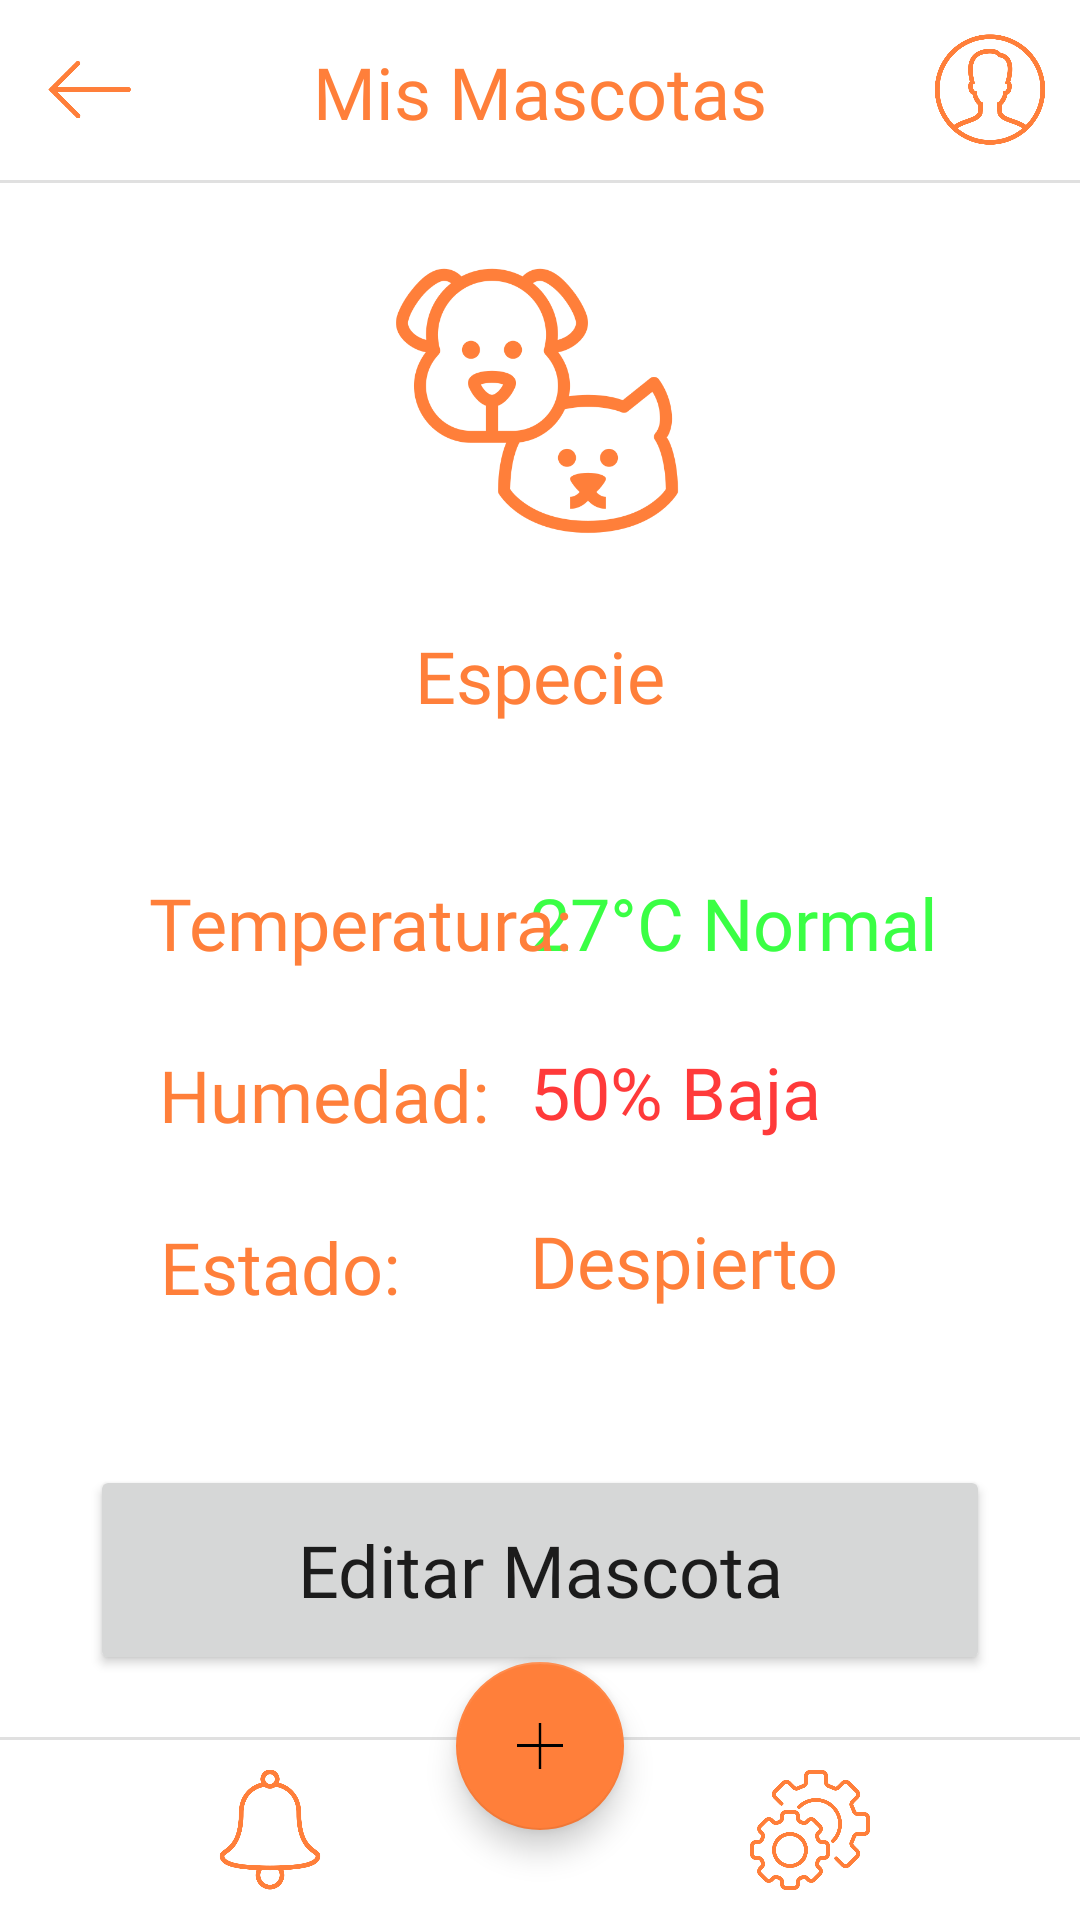

Where to tap for icons on this 1080 x 1920 app screen, as [x,y]:
Agregar: [540,1746]
boton notificaciones: [270,1830]
boton perfil: [990,89]
pets: [537,400]
